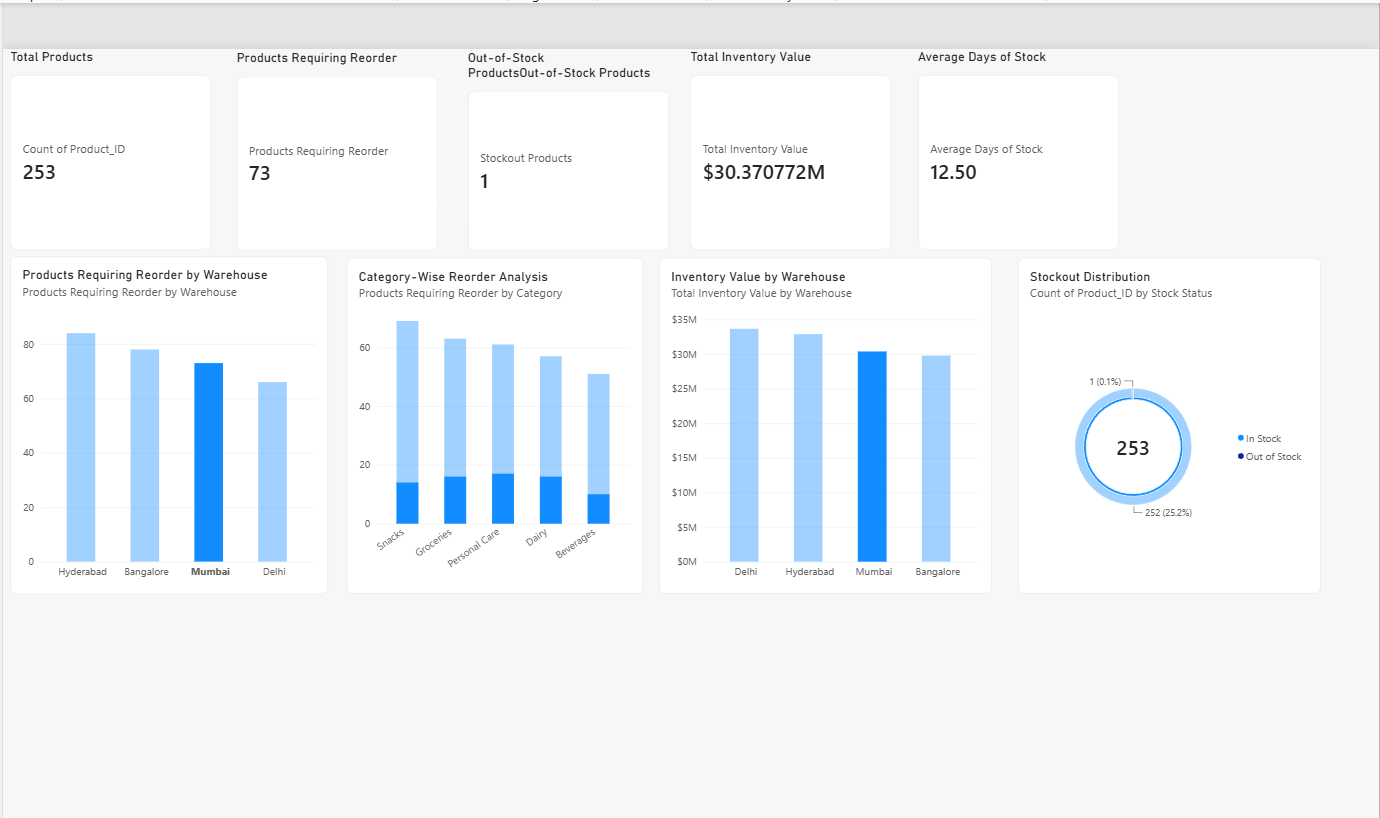

Layout of this report page (visuals, bound fields, positions):
{"tool":"powerbi","page":{"name":"Page 1","canvas":[1920,1080],"ordinal":0},"visuals":[{"type":"cardVisual","title":"Total Products","fields":{"Data":["Count(inventory_data.Product_ID)"]},"box":[10,0,280,280],"z":0},{"type":"cardVisual","title":"Products Requiring Reorder","fields":{"Data":["inventory_data.Products Requiring Reorder"]},"box":[326.2,1.7,280,280],"z":1},{"type":"cardVisual","title":"Out-of-Stock ProductsOut-of-Stock Products","fields":{"Data":["inventory_data.Stockout Products"]},"box":[648.8,1.7,280,280],"z":2},{"type":"cardVisual","title":"Total Inventory Value","fields":{"Data":["inventory_data.Total Inventory Value"]},"box":[959.3,0,280,280],"z":3},{"type":"cardVisual","title":"Average Days of Stock","fields":{"Data":["inventory_data.Average Days of Stock"]},"box":[1276.7,0,280,280],"z":4},{"type":"clusteredColumnChart","title":"Products Requiring Reorder by Warehouse","fields":{"Category":["inventory_data.Warehouse"],"Y":["inventory_data.Products Requiring Reorder"]},"box":[10,290,280,280],"z":5},{"type":"clusteredColumnChart","title":"Category-Wise Reorder Analysis","fields":{"Category":["inventory_data.Category"],"Y":["inventory_data.Products Requiring Reorder"]},"box":[326.2,291.3,280,280],"z":6},{"type":"clusteredColumnChart","title":"Inventory Value by Warehouse","fields":{"Category":["inventory_data.Warehouse"],"Y":["inventory_data.Total Inventory Value"]},"box":[648.8,293,280,280],"z":7},{"type":"donutChart","title":"Stockout Distribution","fields":{"Category":["inventory_data.Stock Status"],"Y":["CountNonNull(inventory_data.Product_ID)"]},"box":[961,294.8,280,280],"z":8}]}

Visuals, with their boxes in screenshot pixels (x1, y1, x2, y2):
"Total Products" cardVisual: 0,72,188,270
"Products Requiring Reorder" cardVisual: 213,73,412,272
"Out-of-Stock ProductsOut-of-Stock Products" cardVisual: 442,73,640,272
"Total Inventory Value" cardVisual: 662,72,860,270
"Average Days of Stock" cardVisual: 887,72,1085,270
"Products Requiring Reorder by Warehouse" clusteredColumnChart: 0,277,188,476
"Category-Wise Reorder Analysis" clusteredColumnChart: 213,278,412,477
"Inventory Value by Warehouse" clusteredColumnChart: 442,280,640,478
"Stockout Distribution" donutChart: 663,281,862,479
